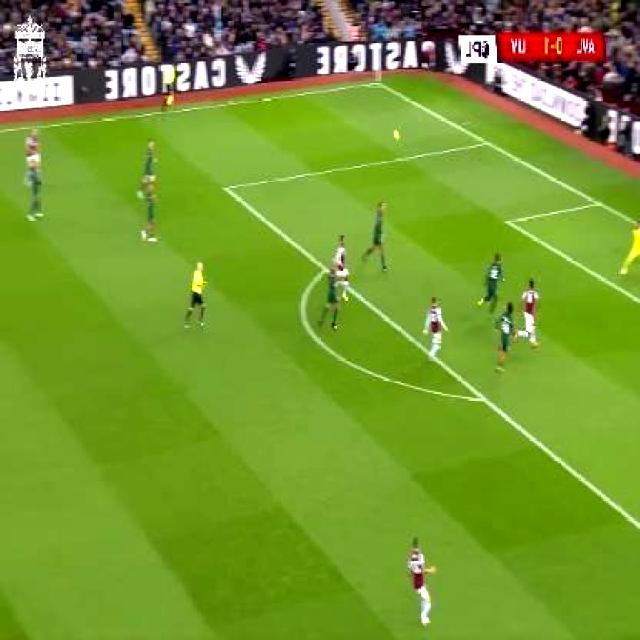bigarea_top_inner: (217, 175, 235, 200)
bigarea_top_outter: (478, 131, 498, 152)
bottom_arc_area_intersection: (472, 382, 496, 412)
corner: (366, 74, 388, 91)
smallarea_top_inner: (500, 209, 520, 234)
smallarea_top_outter: (589, 190, 611, 216)
top_arc_area_intersection: (318, 257, 336, 280)
